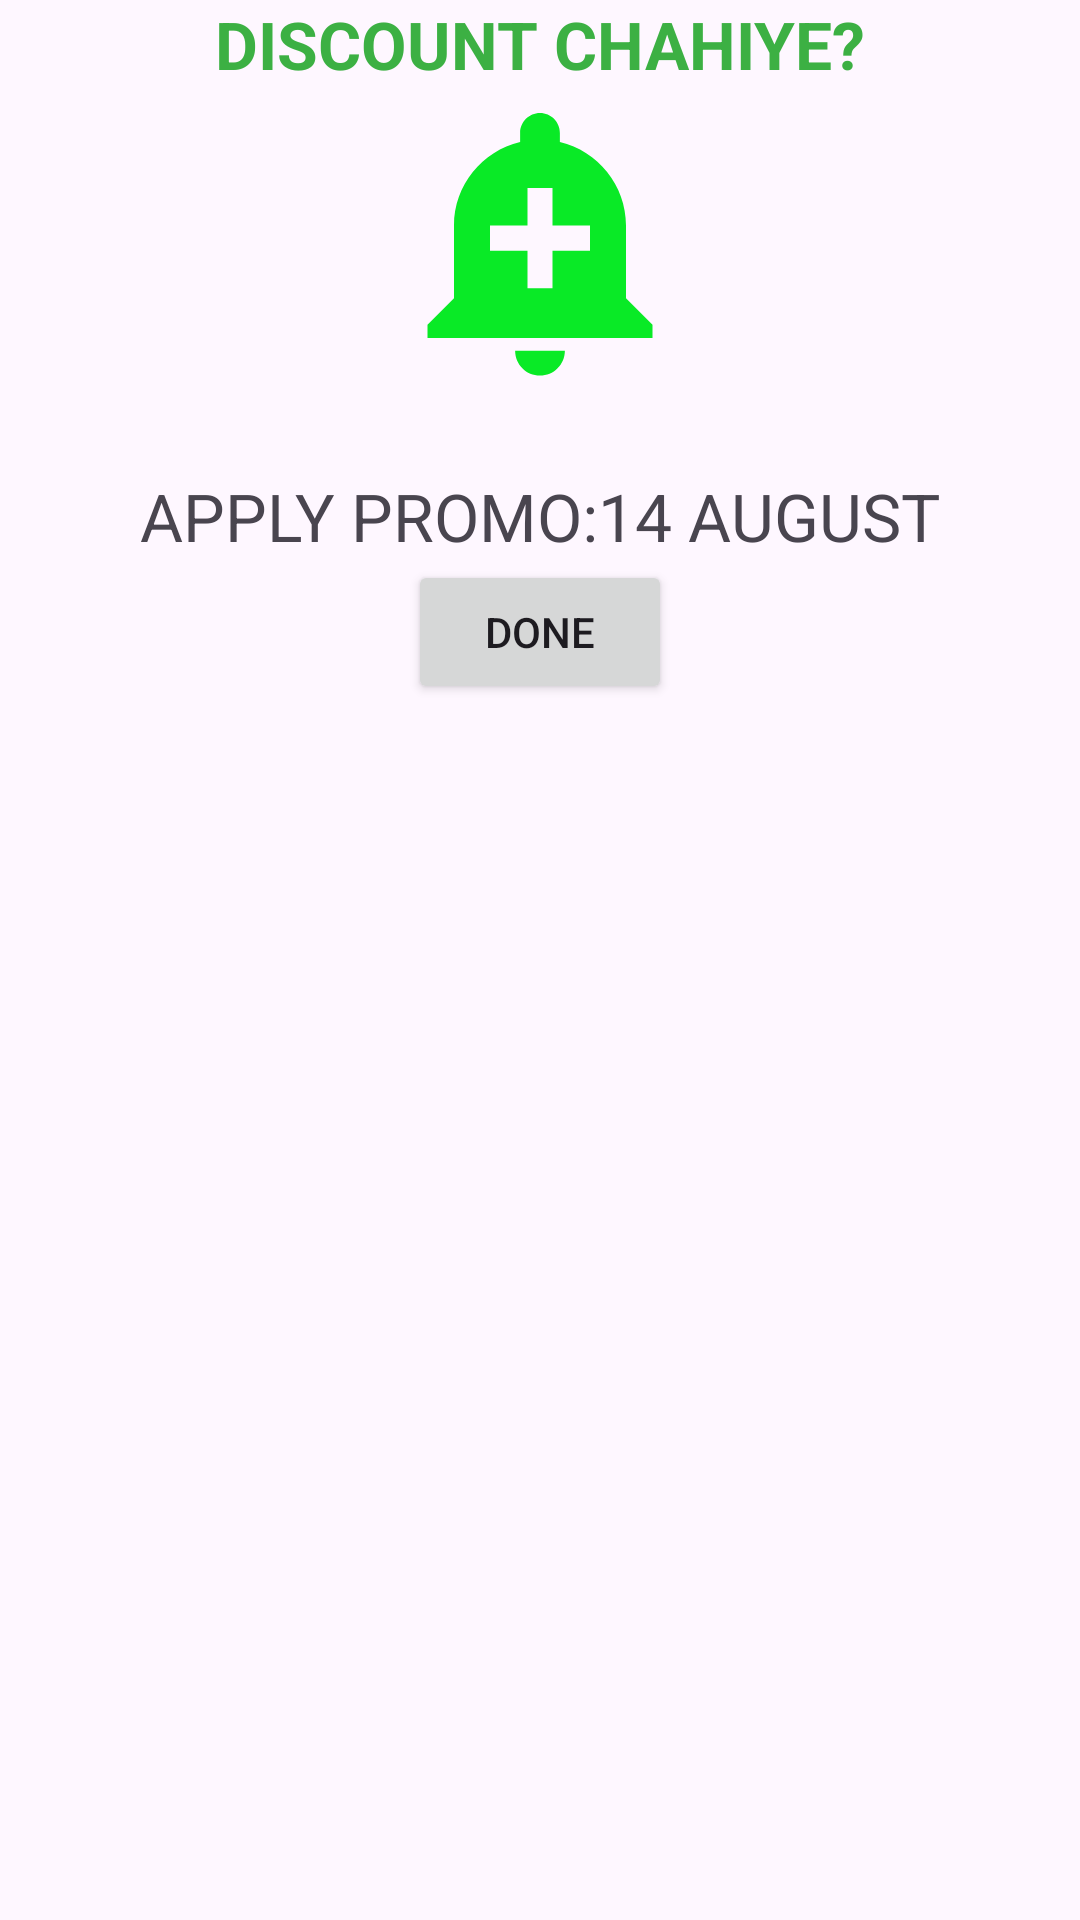

Icon bounding boxes for this 1080x1920 phone screenshot, format (x1, y1, x2, y2):
add alert: (427, 113, 653, 376)
